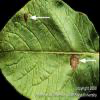Potato leaf early blight: (2, 1, 99, 99)
